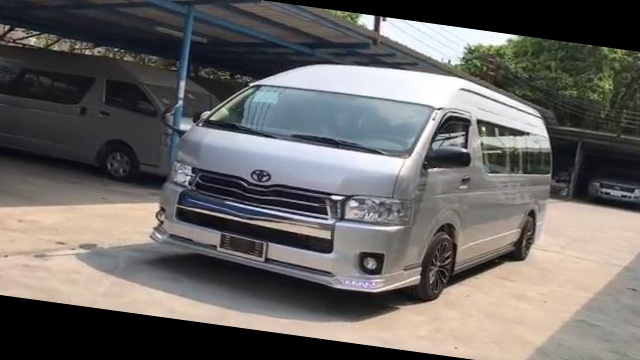van: (144, 39, 562, 323)
